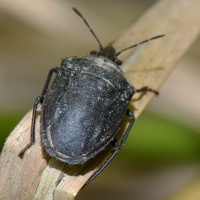insect: (18, 8, 164, 199)
